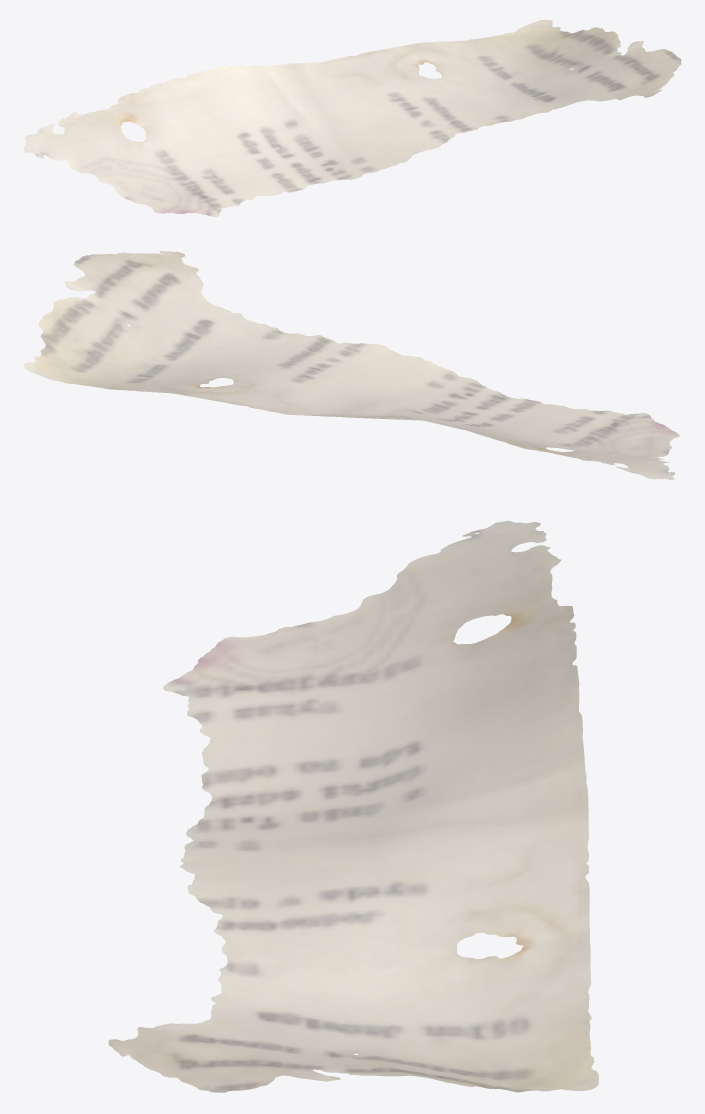
Rendered from SM_Paper_004.fbx.
The picture shows the model from 3 angles, top to bottom: view 1: azimuth 30°, elevation 25°; view 2: azimuth 150°, elevation 25°; view 3: azimuth 270°, elevation 25°; orthographic projection. The views are drawn at different scales.
Parts seen in each view (by area): view 1: SM_Paper_004; view 2: SM_Paper_004; view 3: SM_Paper_004.
Boxes of the visible parts, x1=… form: SM_Paper_004: x1=23, y1=19, x2=681, y2=216; SM_Paper_004: x1=23, y1=251, x2=679, y2=479; SM_Paper_004: x1=108, y1=520, x2=598, y2=1092.
Size of the model in its own units: 41.98 by 15.39 by 3.7.
Materials: 1 (1 with a texture image).
